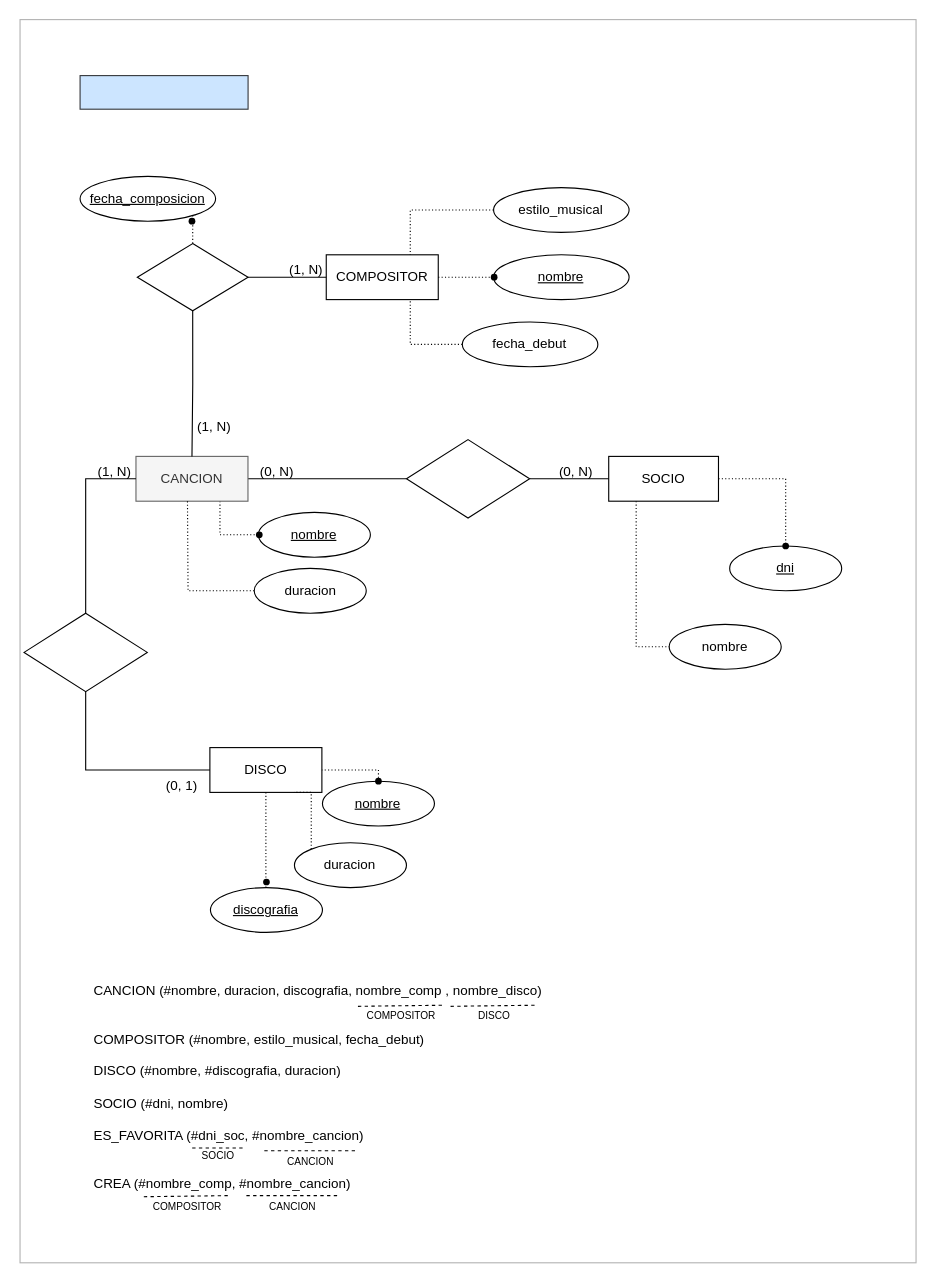
Some shapes in this 935 by 1282 pixel diagram are drawn without their labels. The shapes that lost their labels are listed below. From the top down, each one's centre as x and y in pixels, then its label:
At (163,91): "EJER. 10 - KARAOKE".
At (192,276): "CREA N:N".
At (467,478): "ES_FAVORITA N:N".
At (85,652): "PERTENECE N:1".
